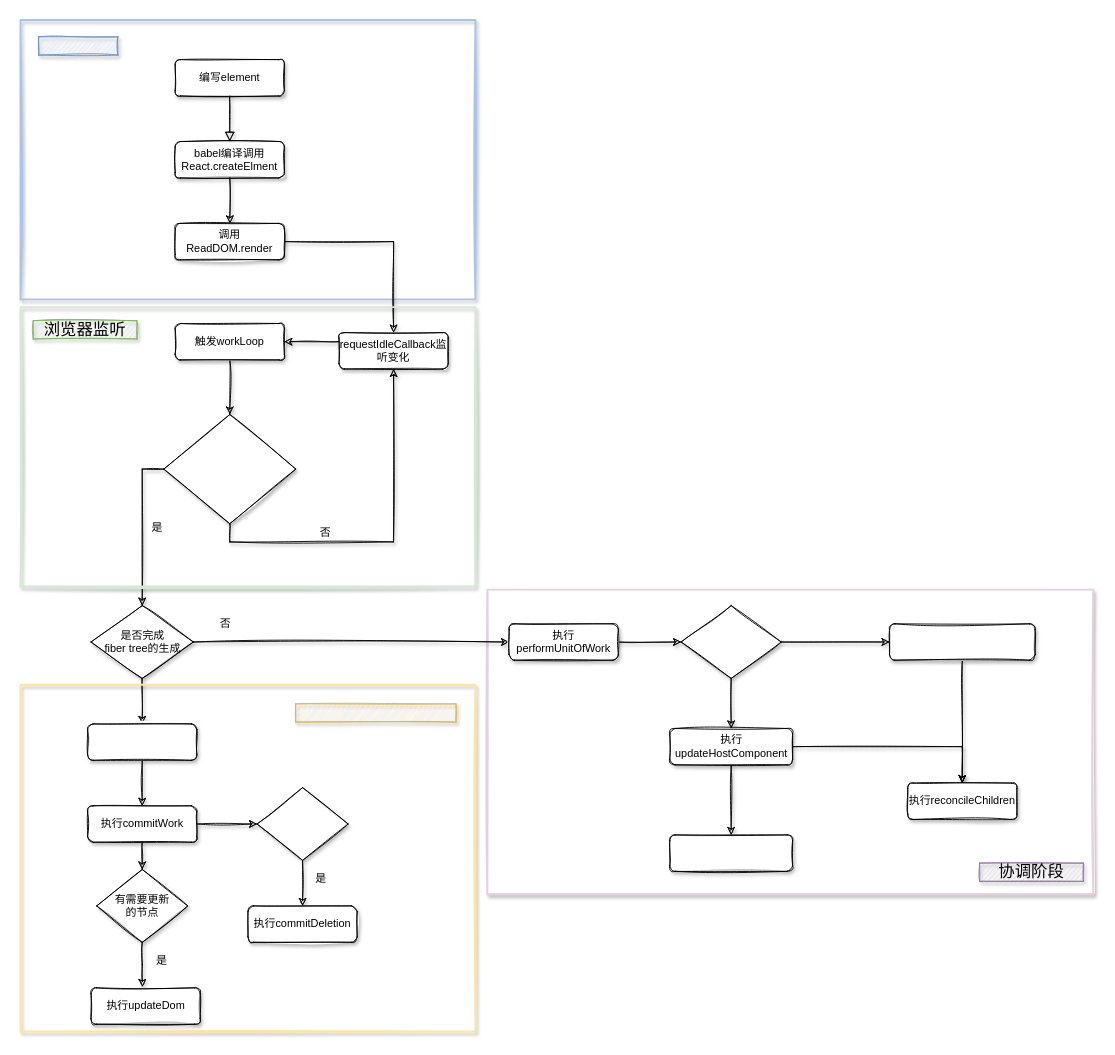
Image size: 1115x1055. Some labels were removed from this diagram. Each missing label, with the centre of its shape:
执行commitRoot提交变更: the point at 142,743
执行createDom生成dom节点: the point at 731,854
执行updateFunctionComponent: the point at 963,643
提交和渲染阶段: the point at 376,713
是否是函数组件: the point at 732,643
有需要删除 的节点: the point at 303,825
浏览器空闲，并且 当前有需要执行的任务: the point at 230,470
用户编写: the point at 78,46
